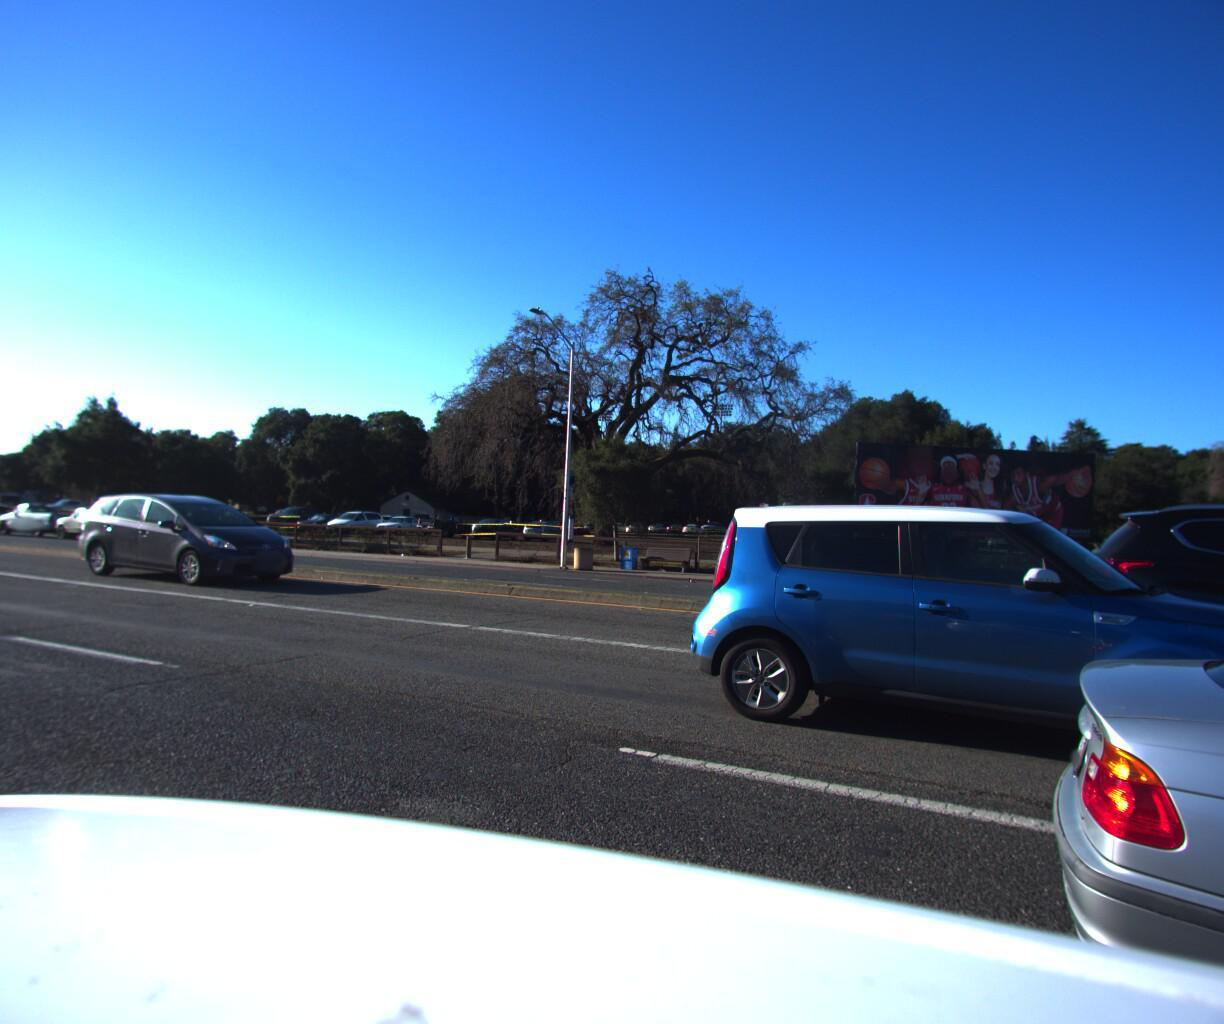car: (672, 495, 1224, 817), (995, 553, 1224, 1024), (1054, 482, 1224, 757), (69, 482, 308, 585), (0, 497, 87, 534), (49, 501, 137, 537), (0, 494, 18, 528)
